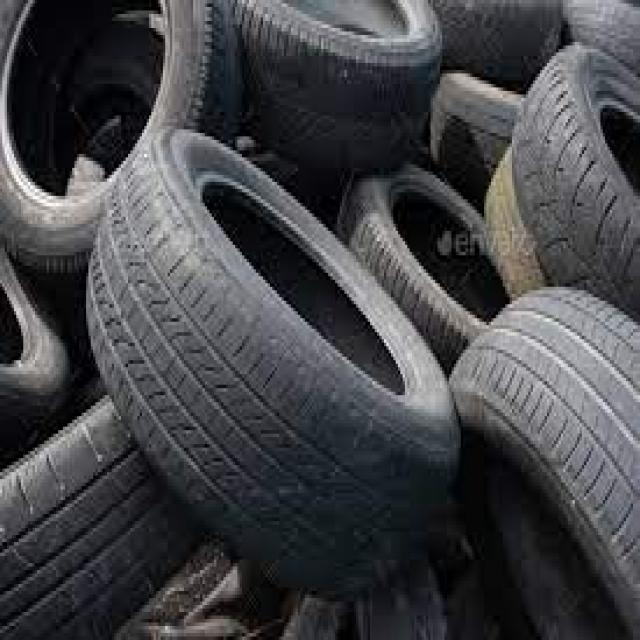Rubber -Non-Biodegradable but Recyclable-: (0, 2, 640, 637)
